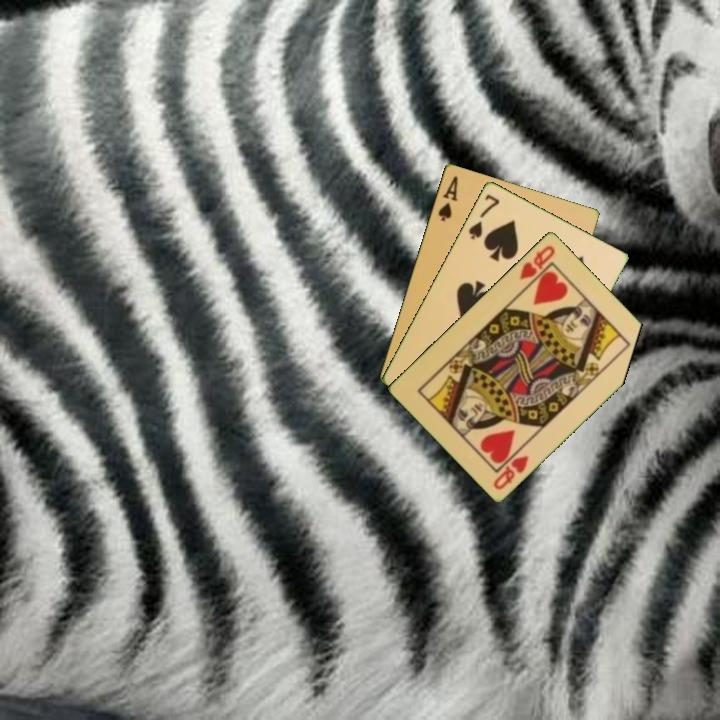7s: (465, 190, 502, 242)
As: (434, 172, 461, 224)
Qh: (515, 241, 558, 283), (490, 451, 532, 492)
